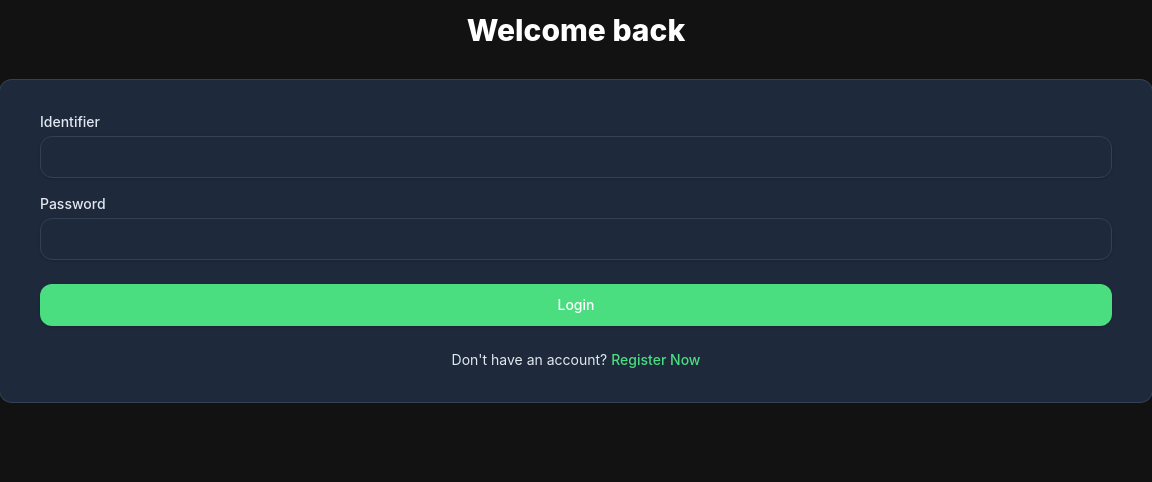
Scenario: Login Component › Backend Error Handling › should handle 401 Unauthorized backend error generically
Type "testUser" into the field labelled "Identifier".
click(576, 157); type("testUser")  # box [40,136,1112,178]
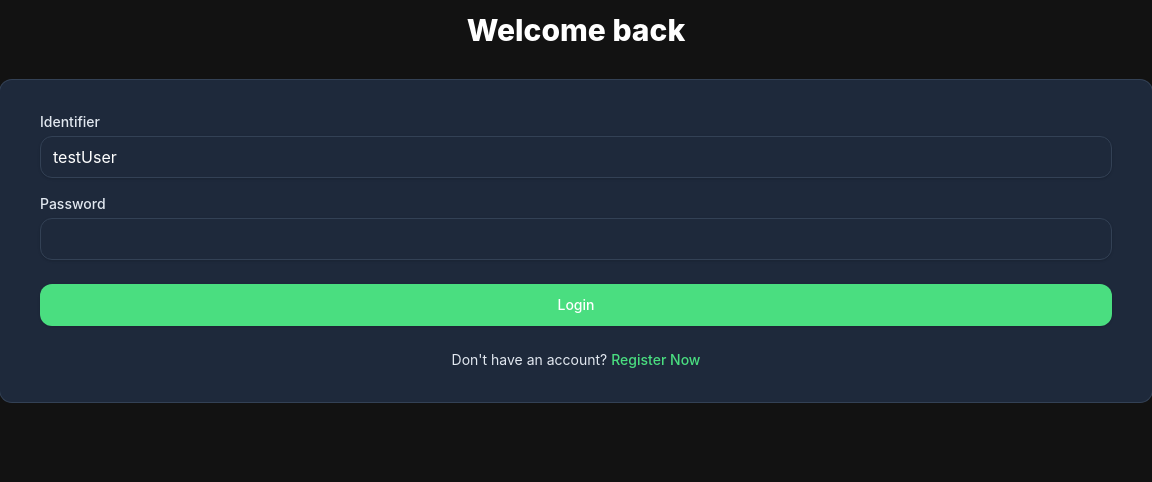
Type "password" into the password field labelled "Password".
click(576, 239); type("password")  # box [40,218,1112,260]
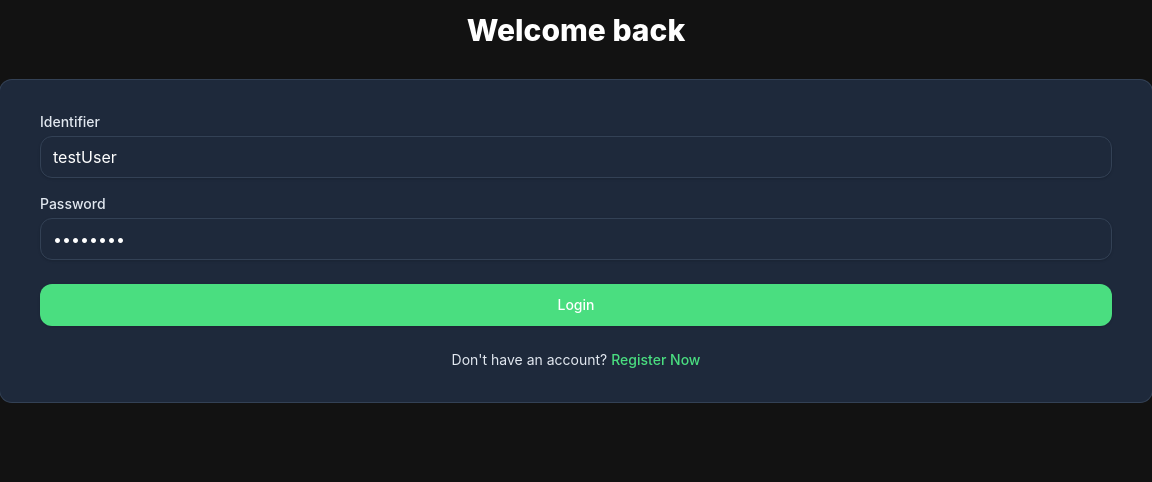
Click the button "Login".
click(576, 305)  # box [40,284,1112,326]
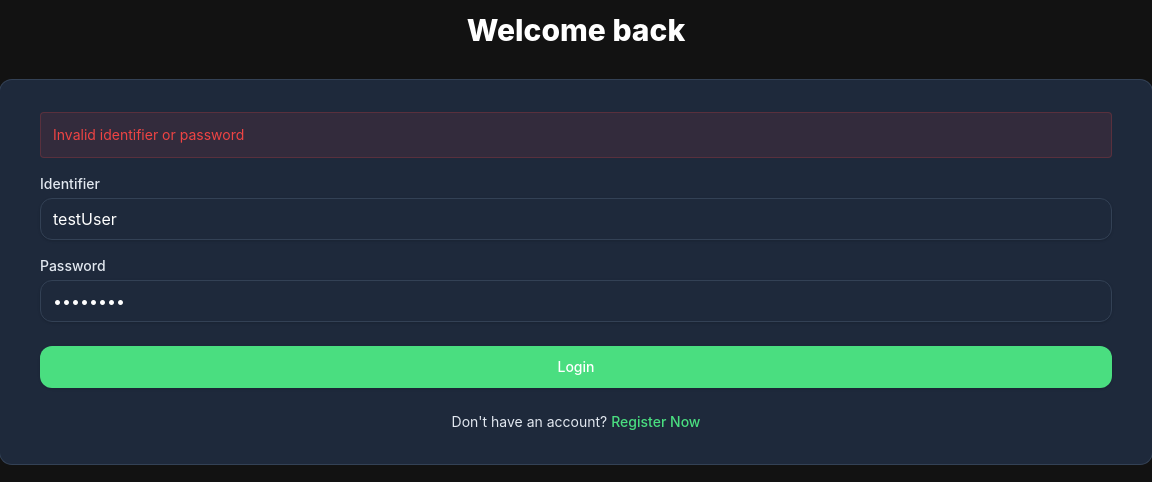
Expected: the message "Invalid identifier or password" is shown, [40,112,1112,158]
Expected: the message reads "Invalid identifier or password", [53,126,244,143]
